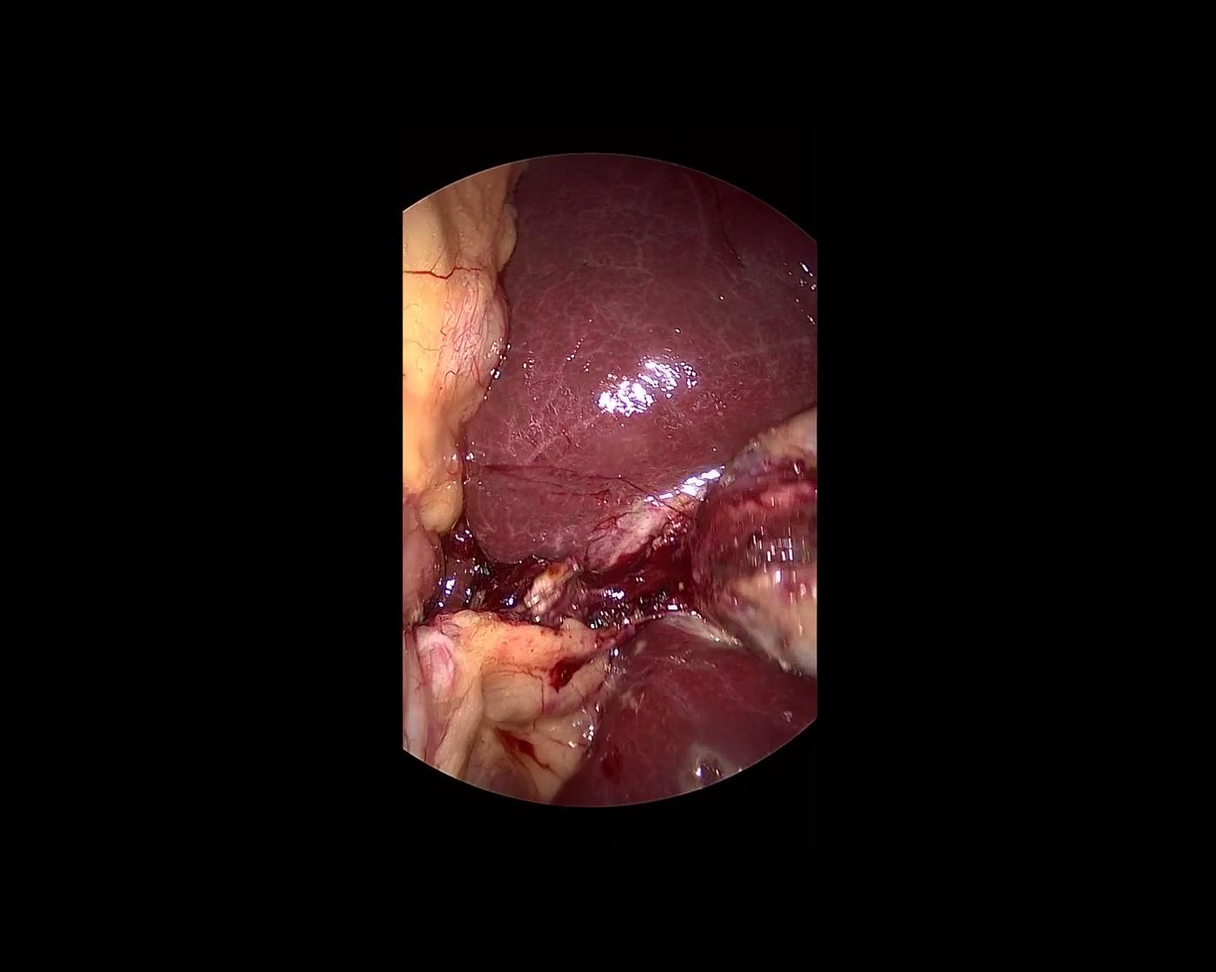Gallbladder: (689, 408, 816, 680)
Liver: (453, 148, 831, 582), (552, 599, 832, 884)
